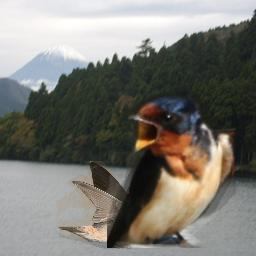Swallow: (107, 91, 236, 248), (57, 161, 154, 249)
